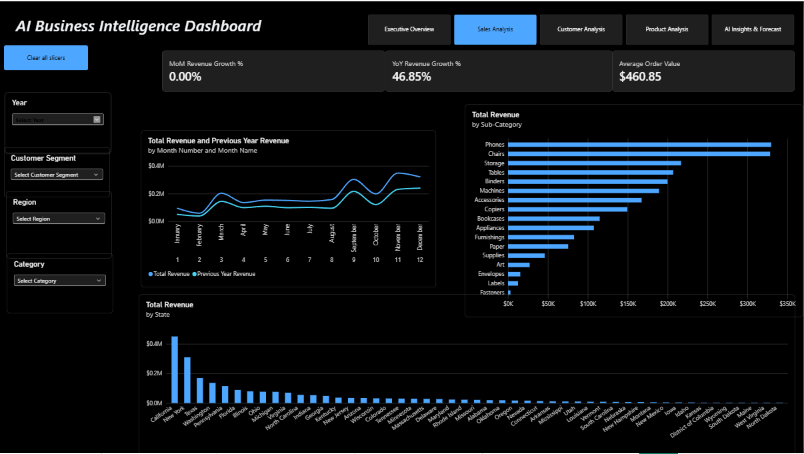

The dashboard page shown, as its layout file describes it:
{"tool":"powerbi","page":{"name":"Sales Analysis","canvas":[1920,1080],"ordinal":1},"visuals":[{"type":"textbox","box":[2.4,31,665.7,74],"z":0},{"type":"lineChart","fields":{"Category":["DateTable.Month Number","DateTable.Month Name"],"Y":["key Measures (2).Total Revenue","key Measures (2).Previous Year Revenue"]},"box":[342.2,307.8,703.8,374.6],"z":0,"group":"g1"},{"type":"pageNavigator","box":[882.8,31,1018.8,74],"z":1000},{"type":"clusteredBarChart","fields":{"Category":["superstore_sales.sub_category"],"Y":["key Measures (2).Total Revenue"]},"box":[1113.2,246.3,806.4,508.2],"z":1000,"group":"g1"},{"type":"group","id":"g1","title":"Group 4","box":[336.4,246.3,1583.3,835.3],"z":2000},{"type":"clusteredColumnChart","fields":{"Category":["superstore_sales.state"],"Y":["key Measures (2).Total Revenue"]},"box":[336.4,699.8,1565.2,381.7],"z":2000,"group":"g1"},{"type":"group","id":"g2","title":"Group 1","box":[391.3,116.9,1510.3,100.2],"z":3000},{"type":"listSlicer","fields":{"Values":["DateTable.Year"]},"box":[17.6,217.1,252.9,145.5],"z":3000,"group":"g3"},{"type":"group","id":"g3","title":"Group 1","box":[14.3,217.1,260.1,527.3],"z":4000},{"type":"actionButton","box":[14.3,105,200.4,59.6],"z":5000},{"type":"listSlicer","fields":{"Values":["ai_customer_segments.ai_segment"]},"box":[14.3,348.9,252.9,119.3],"z":5000,"group":"g3"},{"type":"cardVisual","fields":{"Data":["key Measures (2).Average Order Value"]},"box":[1465,116.9,436.6,99.8],"z":6000,"group":"g2"},{"type":"cardVisual","fields":{"Data":["key Measures (2).YoY Revenue Growth %"]},"box":[922.2,117.3,544,99.8],"z":7000,"group":"g2"},{"type":"cardVisual","fields":{"Data":["key Measures (2).MoM Revenue Growth %"]},"box":[391.3,116.9,532.1,99.8],"z":8000,"group":"g2"},{"type":"listSlicer","fields":{"Values":["superstore_sales.region"]},"box":[20,454.4,252.9,159.9],"z":8000,"group":"g3"},{"type":"listSlicer","fields":{"Values":["superstore_sales.category"]},"box":[21.3,600.5,252.9,143.2],"z":10000,"group":"g3"}]}

Visuals, with their boxes in screenshot pixels (x1, y1, x2, y2), scaled from the page's 1920x1080 canvas onto the 804x454 screenshot:
textbox: 1 13 280 44
lineChart - DateTable.Month Number x DateTable.Month Name: 143 129 438 287
pageNavigator: 370 13 796 44
clusteredBarChart - superstore_sales.sub_category x key Measures (2).Total Revenue: 466 104 803 317
"Group 4" group: 141 104 803 453
clusteredColumnChart - superstore_sales.state x key Measures (2).Total Revenue: 141 294 796 453
"Group 1" group: 164 49 796 91
listSlicer - DateTable.Year: 7 91 113 152
"Group 1" group: 6 91 115 313
actionButton: 6 44 90 69
listSlicer - ai_customer_segments.ai_segment: 6 147 112 197
cardVisual - key Measures (2).Average Order Value: 613 49 796 91
cardVisual - key Measures (2).YoY Revenue Growth %: 386 49 614 91
cardVisual - key Measures (2).MoM Revenue Growth %: 164 49 387 91
listSlicer - superstore_sales.region: 8 191 114 258
listSlicer - superstore_sales.category: 9 252 115 313
